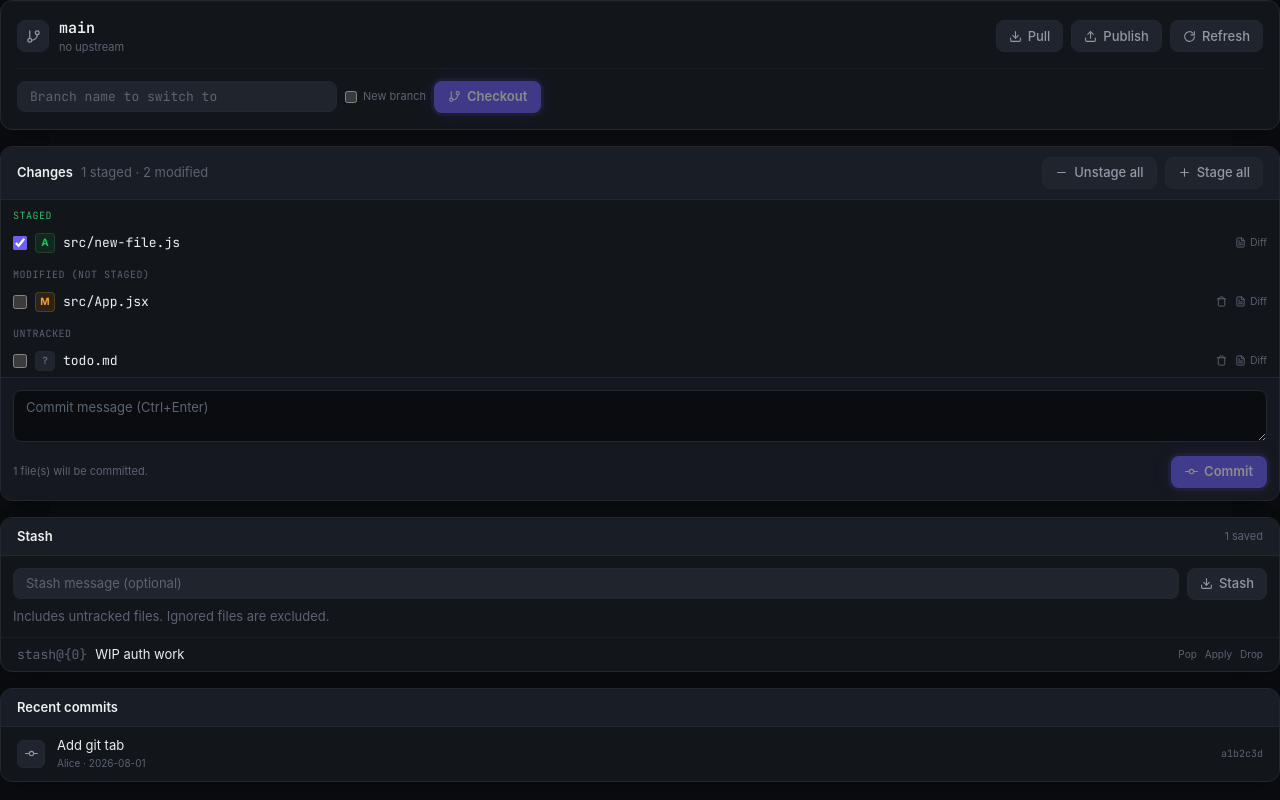
GitTab › offers publish for a branch without an upstream and confirms stash deletion
Expected: the button "Publish" is enabled, [1071, 20, 1162, 52]
Click the button "Drop": (1252, 654) [1240, 646, 1263, 662]
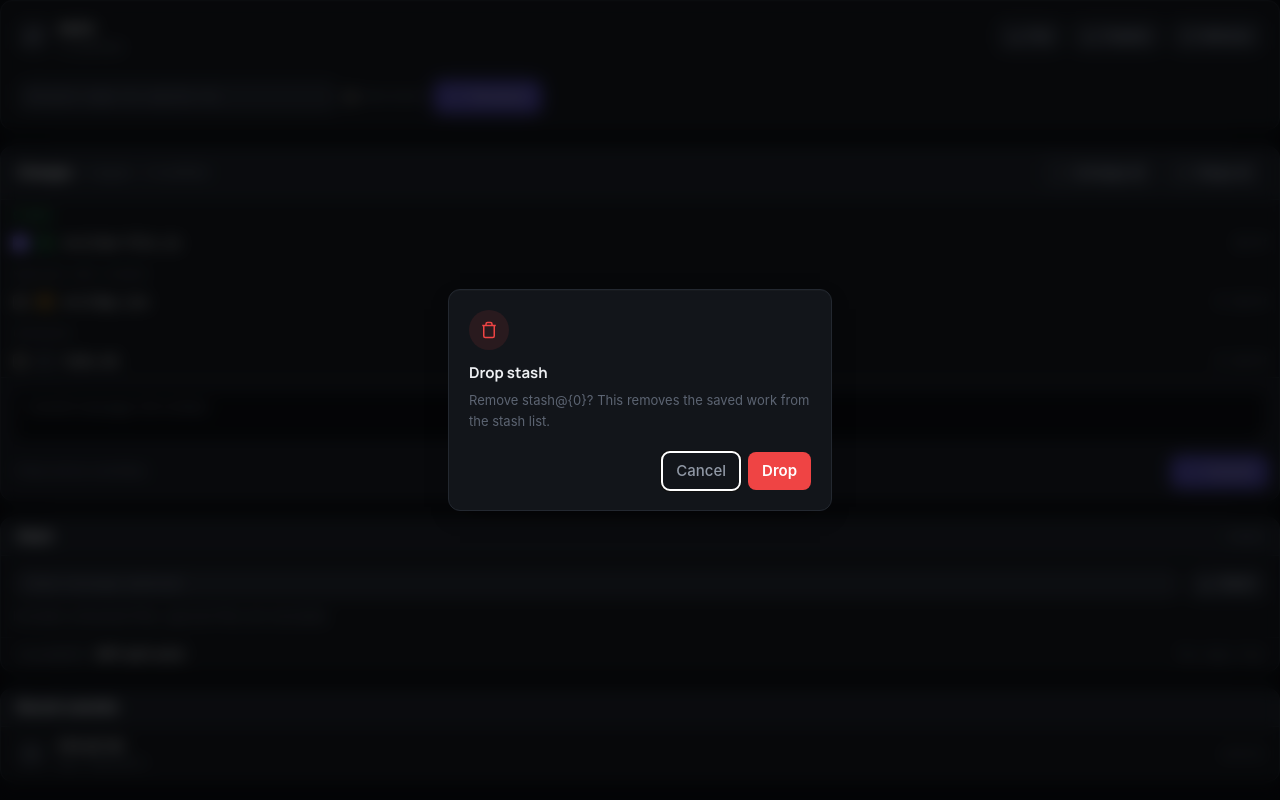
Result: the text "Remove stash@" is shown at [469, 392, 809, 429]
